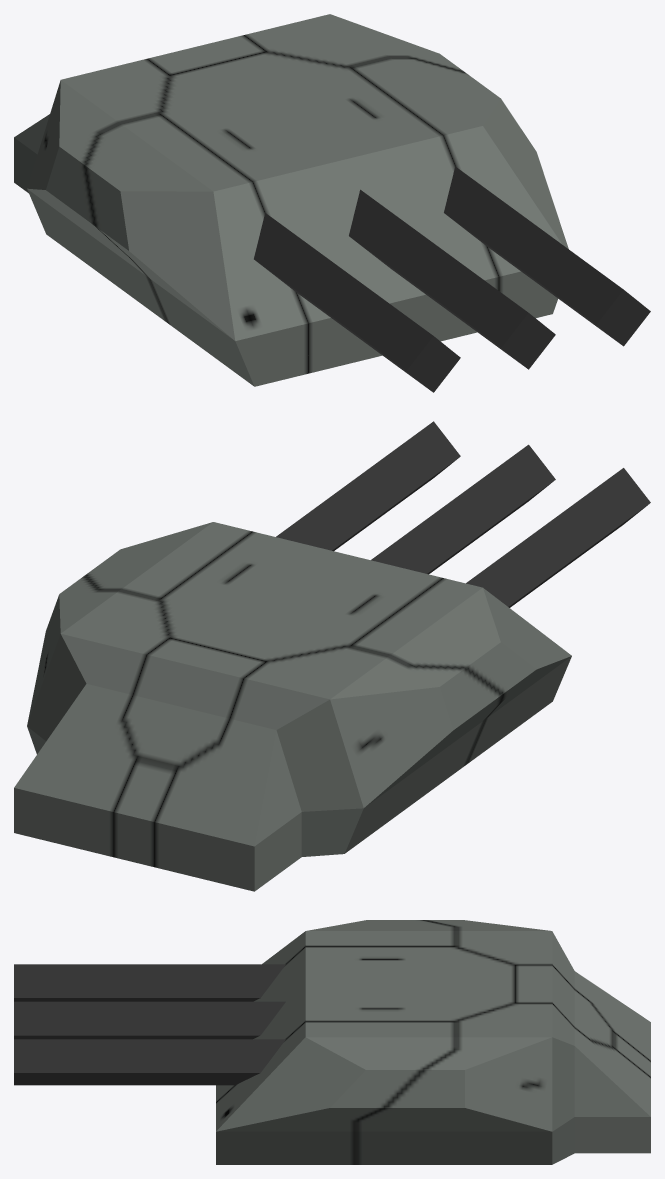
The model's file is Boss_Turret_B_2.fbx.
3 renders of one model, top to bottom at view 1: azimuth 30°, elevation 25°; view 2: azimuth 150°, elevation 25°; view 3: azimuth 270°, elevation 25°, orthographic. The views are drawn at different scales.
Parts seen in each view (by area): view 1: Boss_Turret1; view 2: Boss_Turret1; view 3: Boss_Turret1.
Part boxes in pixels (x1,y1,x2,y2): Boss_Turret1: (14,14,650,392); Boss_Turret1: (14,421,650,891); Boss_Turret1: (14,920,650,1164).
Bounding box in the file's own units: 847 × 300 × 1420.
Materials: 1 (1 with a texture image).
